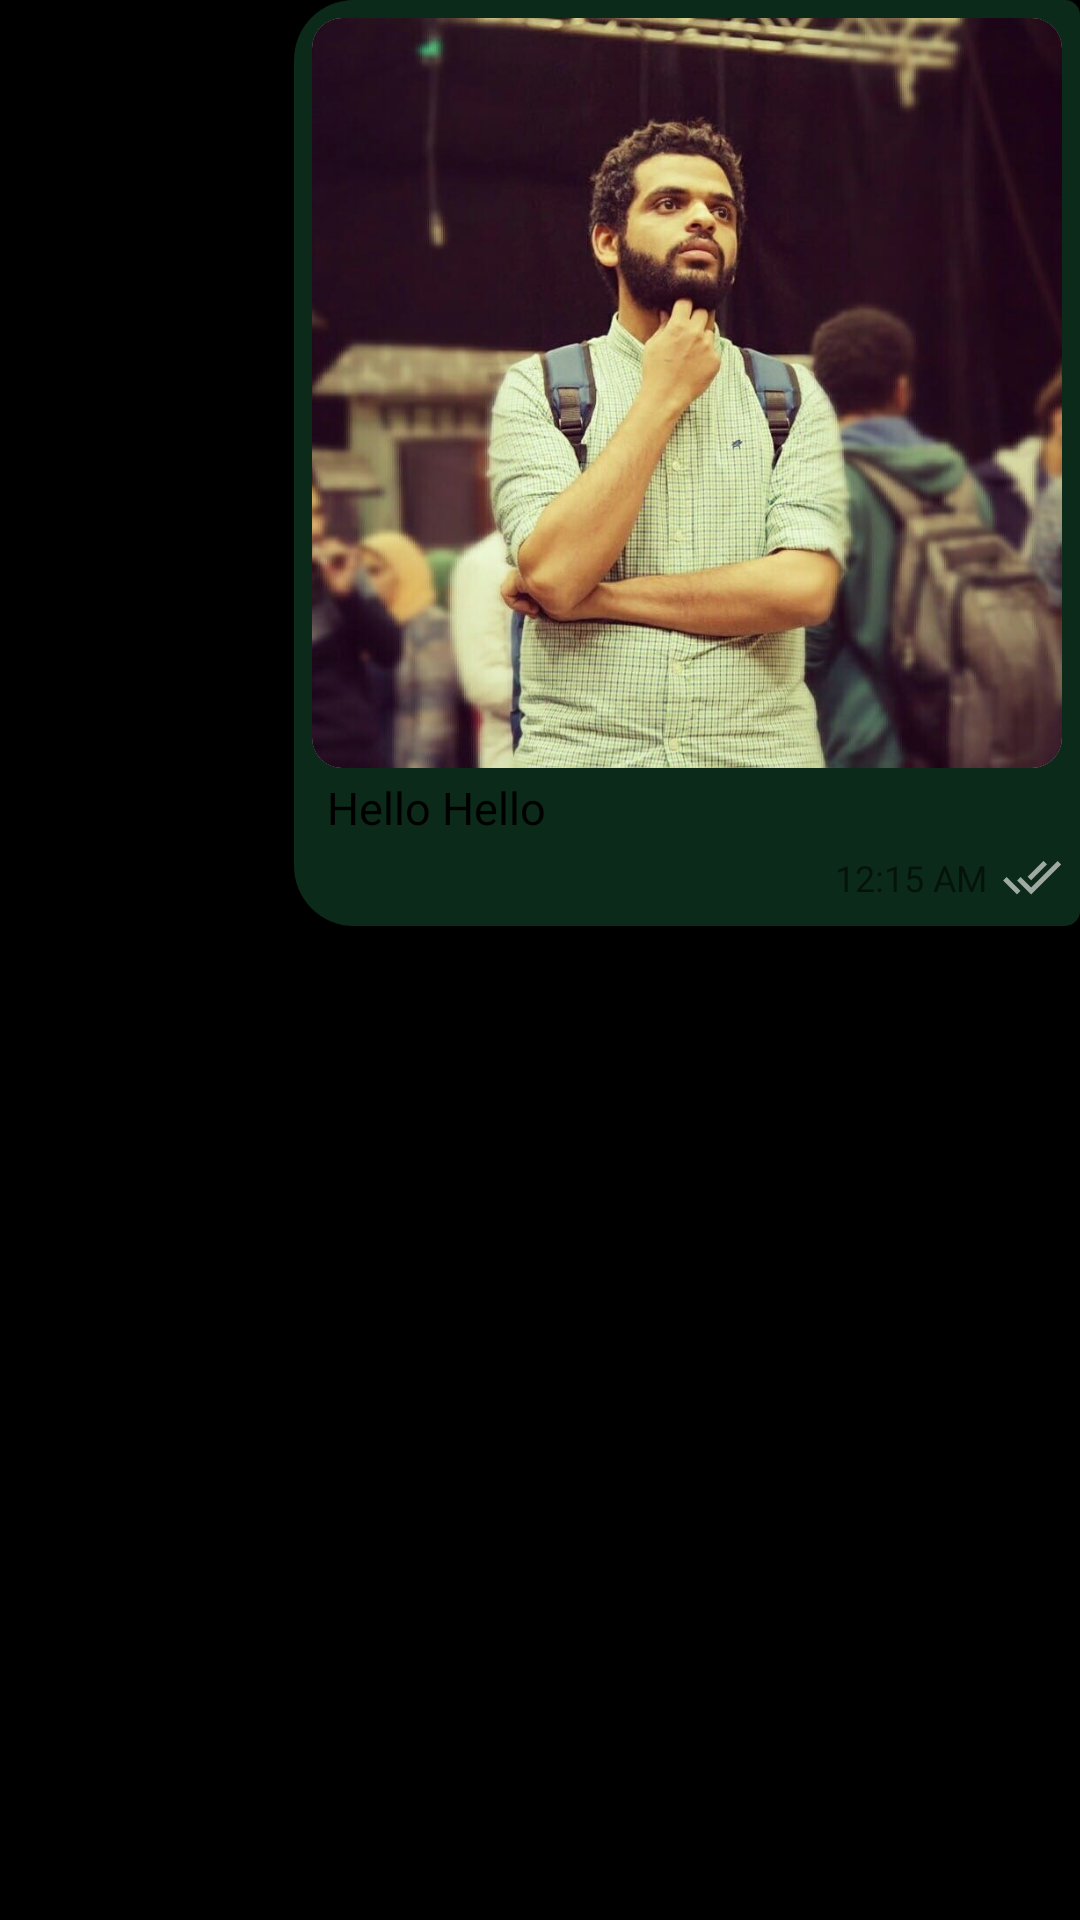

Where icons sit on this 1080×1920 app screen, as (x1, y1, x2, y2):
sent: (1003, 861, 1061, 895)
